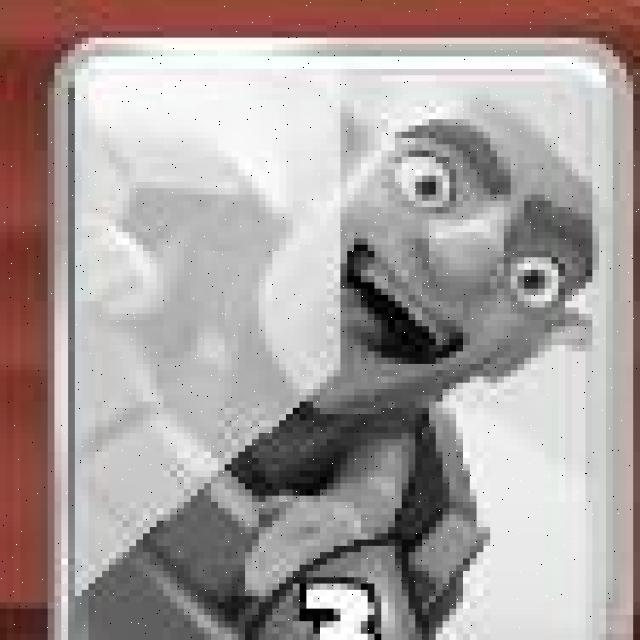Goblin_Barrel: (51, 37, 637, 640)
